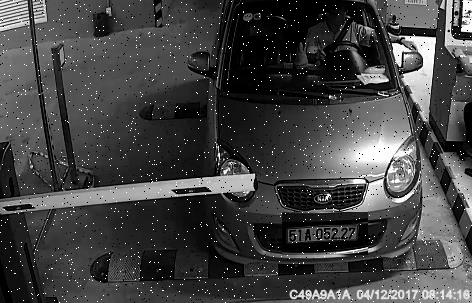License-plate: (283, 214, 369, 258)
